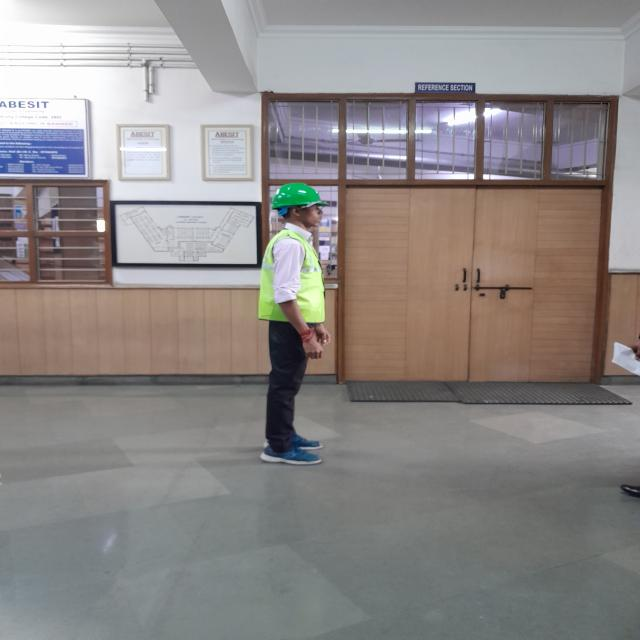safe: (258, 182, 329, 462)
